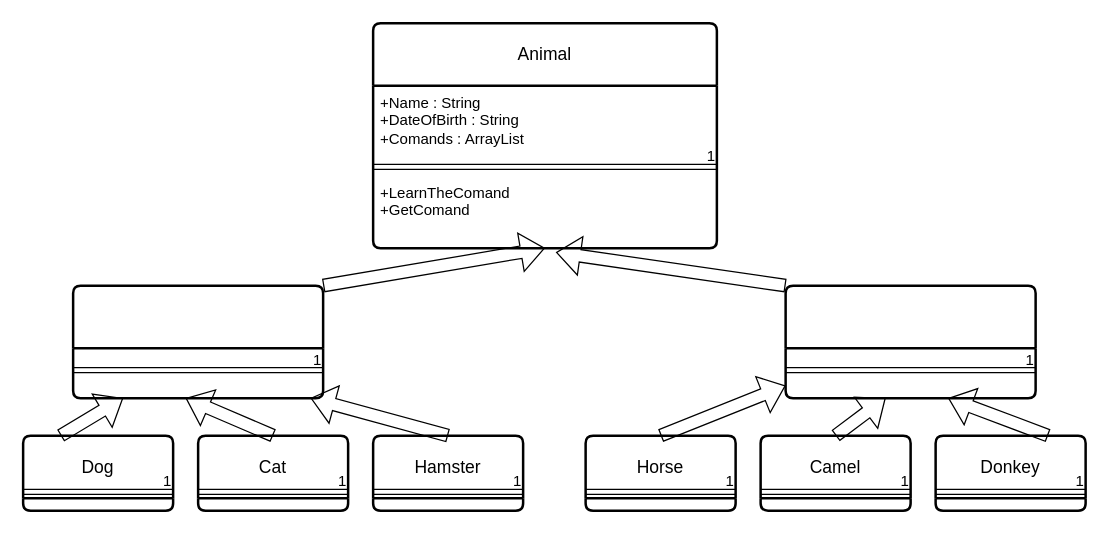
Some shapes in this 1108 by 533 pixel diagram are drawn without their labels. Here are the shapes that lost their labels. From the top down, the centre of each, then its label:
At point (197, 341): "Pets".
At point (910, 341): "PackAnimals".
